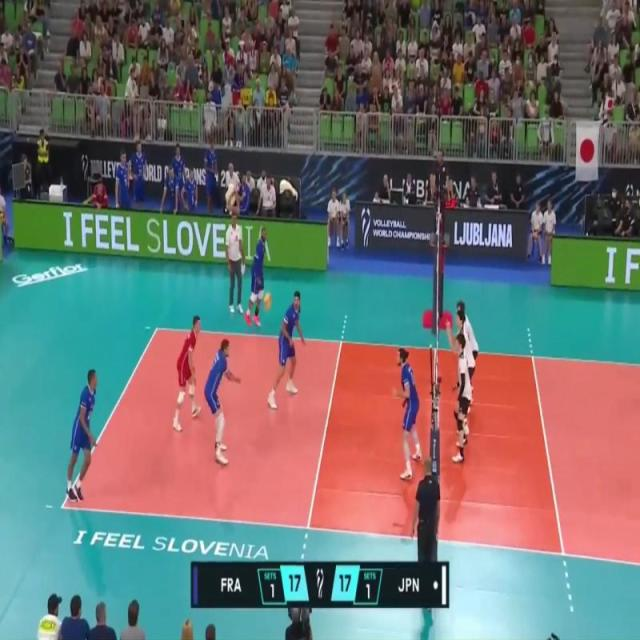volleyball: (263, 292, 272, 310)
